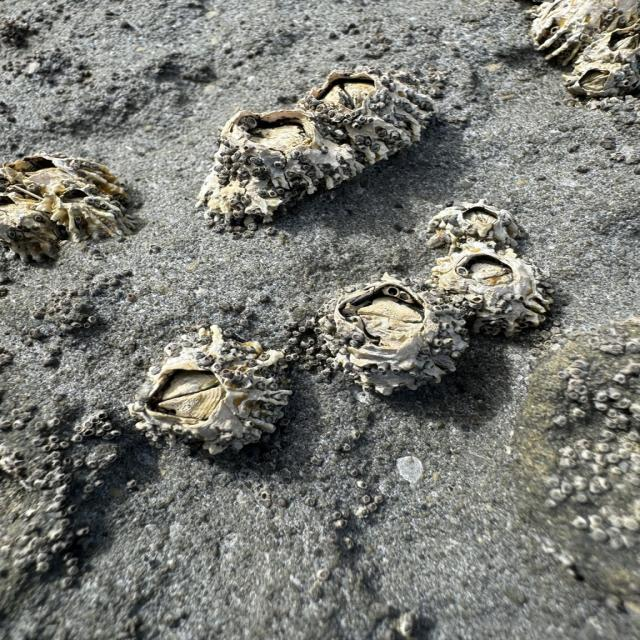barnacles: (126, 336, 298, 463), (325, 266, 471, 403), (210, 105, 360, 223), (304, 60, 446, 163), (434, 242, 554, 342), (423, 198, 532, 250)
